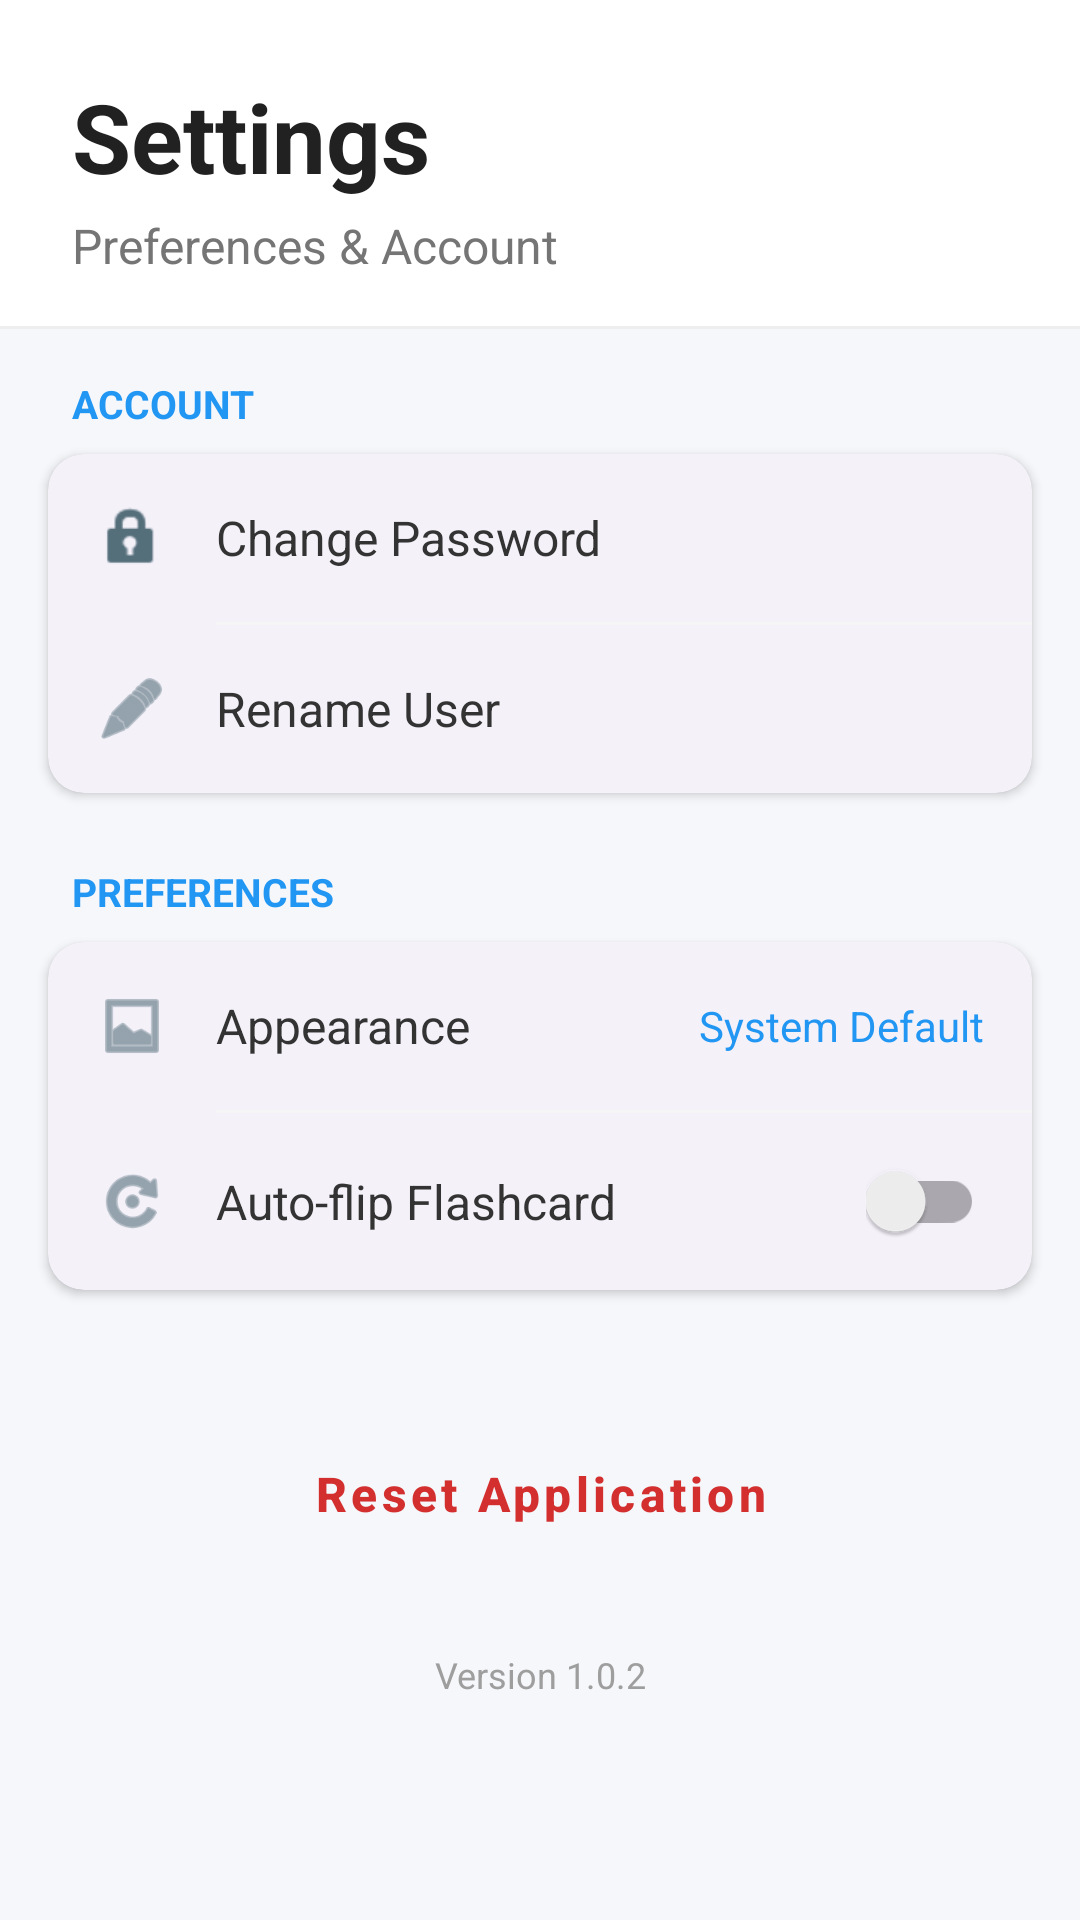

Point at icon controls on the screen. Image size 1080 x 1920, points as point (x, y).
edit: point (131, 708)
gallery: point (132, 1026)
lock idle: point (130, 535)
rotate: point (132, 1201)
